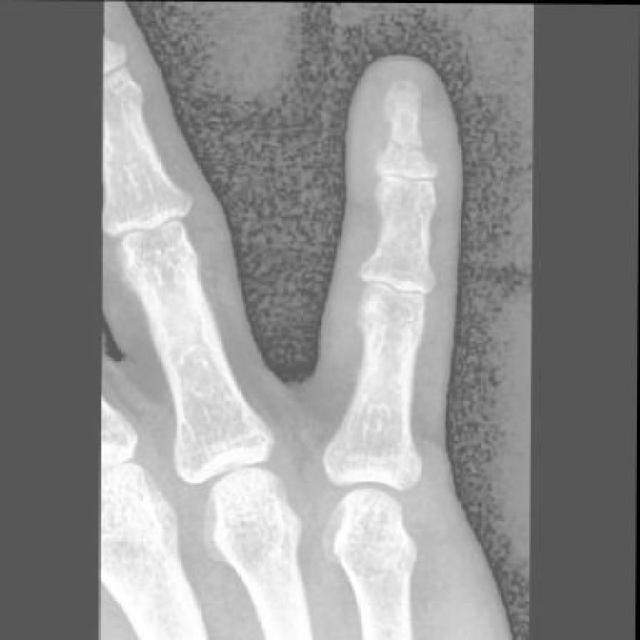Fracture: (390, 129, 428, 157)
